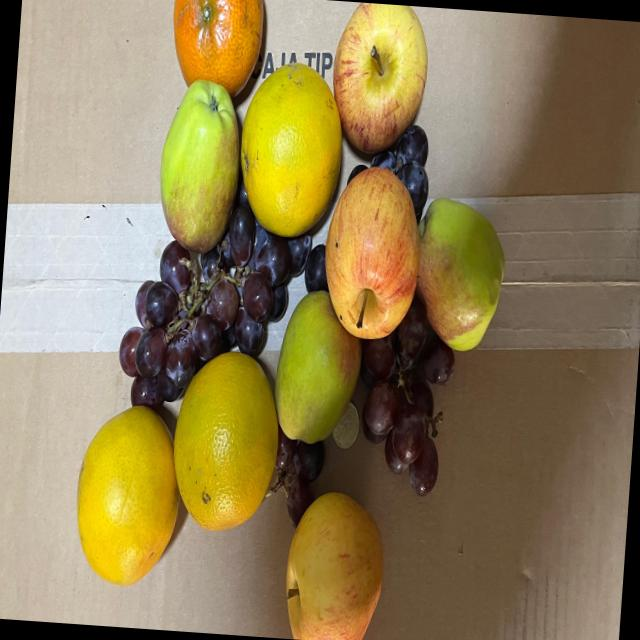moneda: (329, 399, 363, 453)
